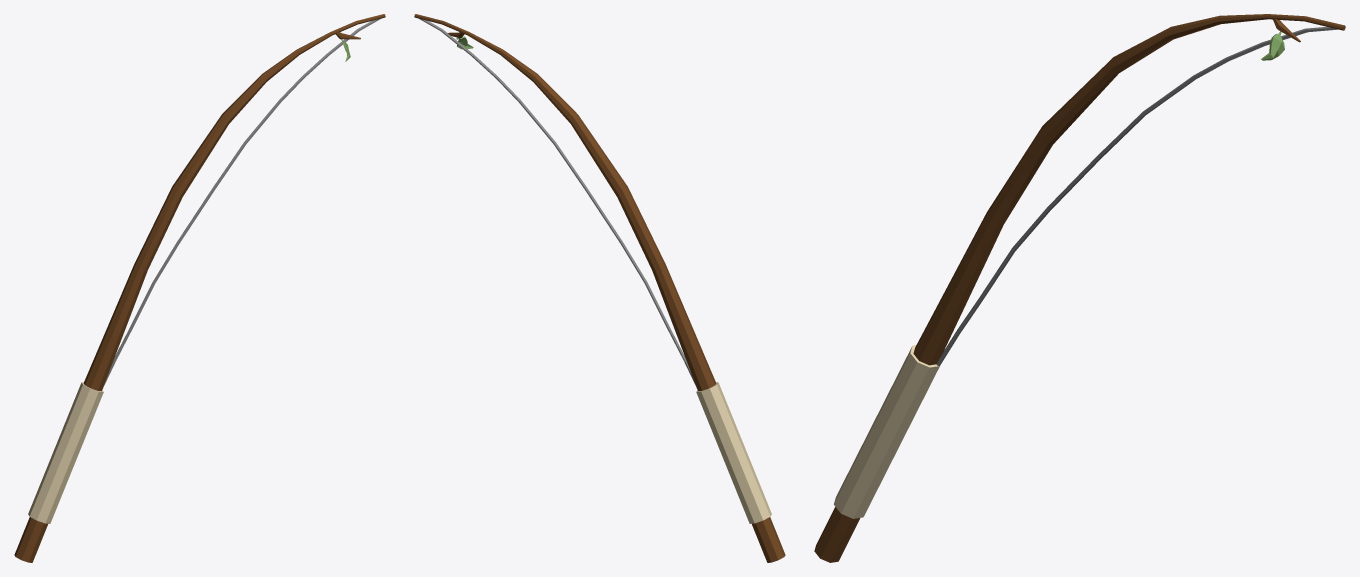
3 views of the same model, side by side, from view 1: azimuth 30°, elevation 25°; view 2: azimuth 150°, elevation 25°; view 3: azimuth 330°, elevation 25° (orthographic). The views are drawn at different scales.
Visible parts, largest first — view 1: pCylinder1, pCylinder2, pCylinder4; view 2: pCylinder1, pCylinder2, pCylinder4; view 3: pCylinder1, pCylinder2, pCylinder4.
Part boxes in pixels (x1=…): pCylinder1: x1=14, y1=14, x2=385, y2=562; pCylinder2: x1=28, y1=382, x2=103, y2=523; pCylinder4: x1=103, y1=18, x2=381, y2=387; pCylinder1: x1=414, y1=14, x2=785, y2=562; pCylinder2: x1=696, y1=382, x2=771, y2=523; pCylinder4: x1=419, y1=18, x2=696, y2=387; pCylinder1: x1=814, y1=14, x2=1345, y2=562; pCylinder2: x1=834, y1=345, x2=939, y2=518; pCylinder4: x1=936, y1=26, x2=1337, y2=365.
Bounding box in the file's own units: 4.07 × 4.86 × 0.3032.
4 materials, 4 textured.
